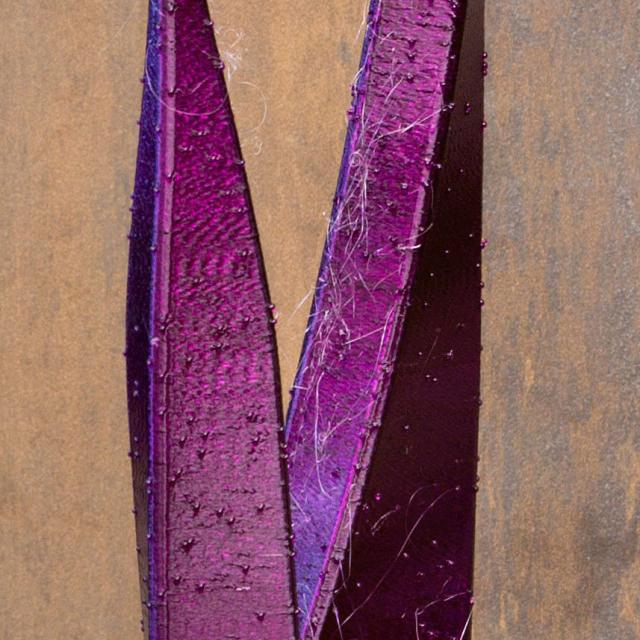Stringing: (292, 53, 411, 512)
